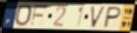1: (76, 5, 87, 29)
2: (52, 5, 67, 28)
F: (29, 5, 50, 28)
O: (14, 4, 34, 28)
P: (101, 6, 123, 29)
V: (90, 6, 107, 30)
